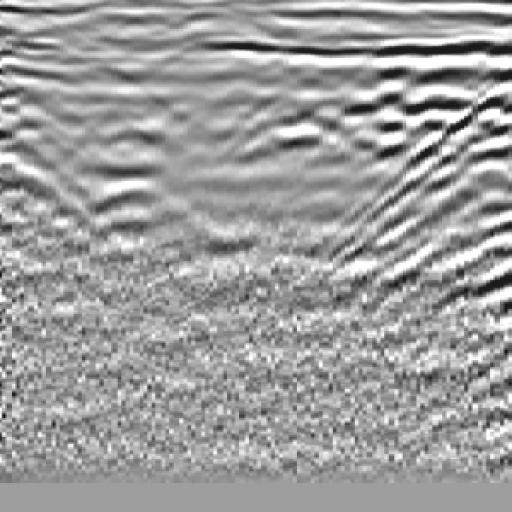metalic: (45, 115, 217, 283)
nonmetalic: (346, 27, 512, 314)
